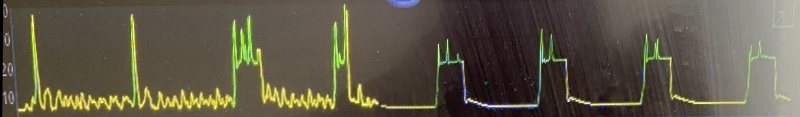hydrop_pressure: (6, 2, 794, 117)
